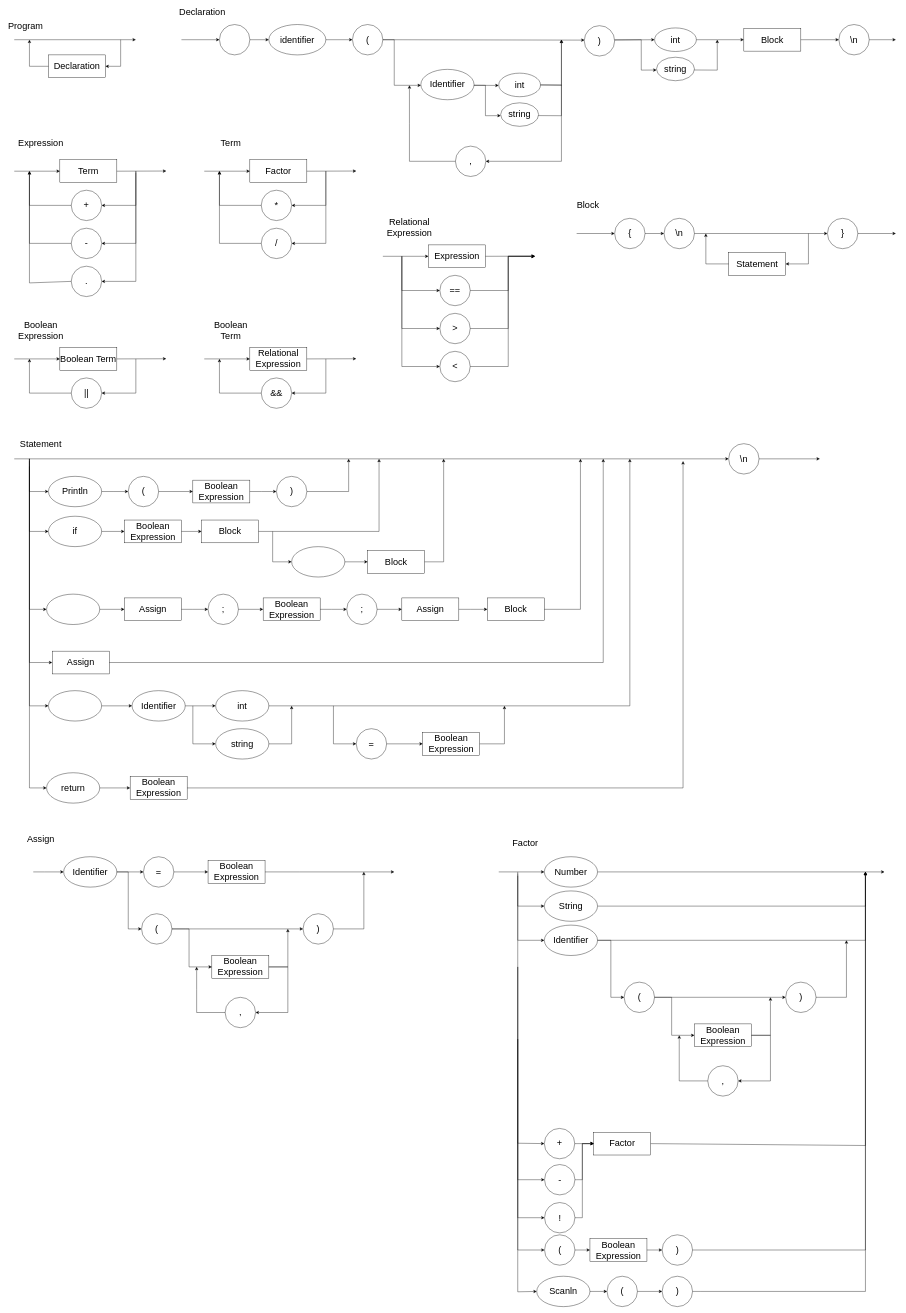
The diagram is 906 pixels wide and 1313 high, and some of its shapes have lost their labels. Here are the shapes that lost their labels. From the top down, the box of each, then its label:
(219, 24, 250, 55): func
(291, 546, 345, 577): else
(46, 594, 100, 625): for
(48, 690, 102, 721): var
